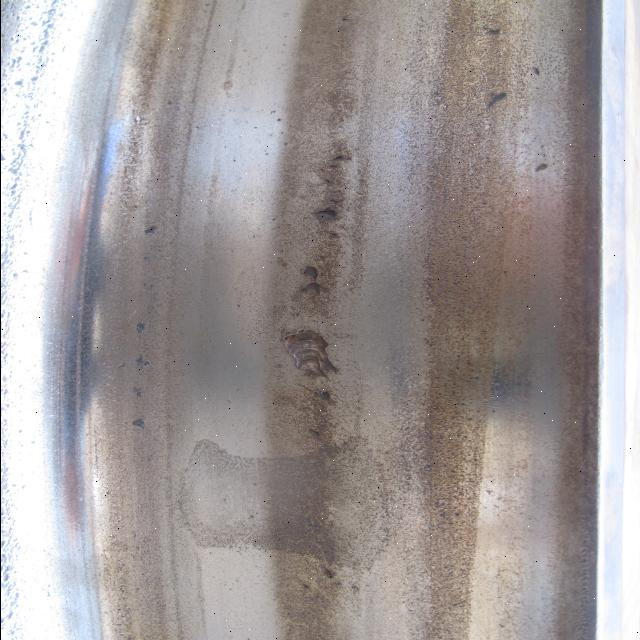boli: (270, 319, 343, 385)
